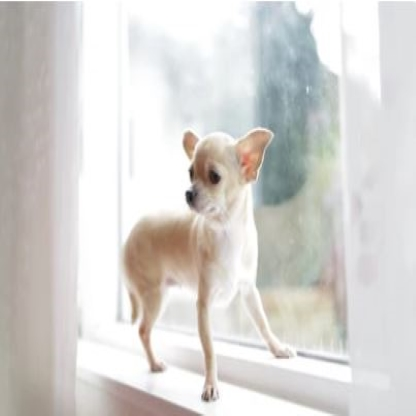chihuahua: (122, 126, 303, 403)
